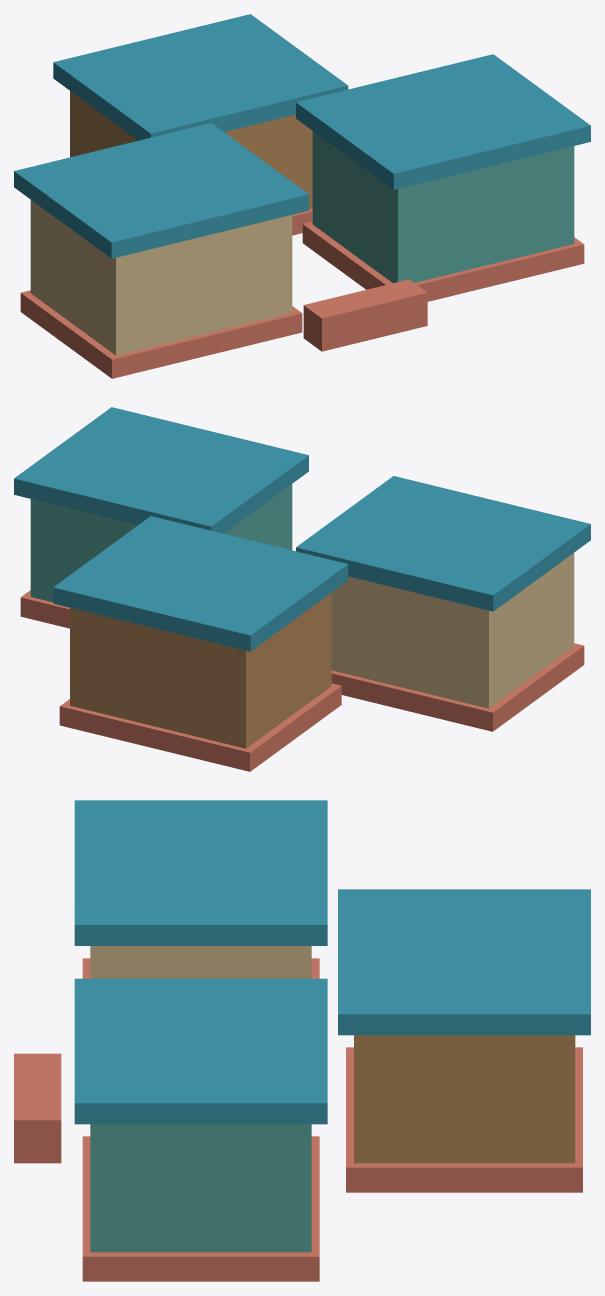
Rendered from village-housing.source.glb.
The picture shows the model from 3 angles, top to bottom: view 1: azimuth 30°, elevation 25°; view 2: azimuth 150°, elevation 25°; view 3: azimuth 270°, elevation 25°; orthographic projection. The views are drawn at different scales.
Parts seen in each view (by area): view 1: village-housing-home-0-mesh, village-housing-home-1-mesh, village-housing-roof-1-mesh, village-housing-roof-0-mesh, village-housing-roof-2-mesh, village-housing-base-0-mesh, village-housing-shared-trough-mesh, village-housing-home-2-mesh, village-housing-base-1-mesh; view 2: village-housing-home-2-mesh, village-housing-roof-2-mesh, village-housing-home-0-mesh, village-housing-roof-0-mesh, village-housing-roof-1-mesh, village-housing-home-1-mesh, village-housing-base-2-mesh, village-housing-base-0-mesh, village-housing-base-1-mesh; view 3: village-housing-roof-1-mesh, village-housing-roof-2-mesh, village-housing-roof-0-mesh, village-housing-home-1-mesh, village-housing-home-2-mesh, village-housing-base-1-mesh, village-housing-base-2-mesh, village-housing-home-0-mesh, village-housing-shared-trough-mesh.
Part boxes in pixels (x1=…): village-housing-home-0-mesh: x1=30, y1=200, x2=292, y2=355; village-housing-home-1-mesh: x1=312, y1=131, x2=574, y2=283; village-housing-roof-1-mesh: x1=296, y1=54, x2=590, y2=189; village-housing-roof-0-mesh: x1=14, y1=123, x2=308, y2=258; village-housing-roof-2-mesh: x1=53, y1=14, x2=348, y2=140; village-housing-base-0-mesh: x1=20, y1=290, x2=302, y2=378; village-housing-shared-trough-mesh: x1=303, y1=279, x2=427, y2=351; village-housing-home-2-mesh: x1=70, y1=91, x2=312, y2=209; village-housing-base-1-mesh: x1=302, y1=221, x2=584, y2=301; village-housing-home-2-mesh: x1=70, y1=593, x2=331, y2=748; village-housing-roof-2-mesh: x1=53, y1=516, x2=348, y2=651; village-housing-home-0-mesh: x1=331, y1=553, x2=574, y2=708; village-housing-roof-0-mesh: x1=296, y1=476, x2=590, y2=611; village-housing-roof-1-mesh: x1=14, y1=407, x2=308, y2=533; village-housing-home-1-mesh: x1=30, y1=484, x2=292, y2=602; village-housing-base-2-mesh: x1=59, y1=683, x2=341, y2=771; village-housing-base-0-mesh: x1=331, y1=643, x2=584, y2=731; village-housing-base-1-mesh: x1=20, y1=590, x2=69, y2=628; village-housing-roof-1-mesh: x1=74, y1=978, x2=327, y2=1124; village-housing-roof-2-mesh: x1=338, y1=889, x2=590, y2=1035; village-housing-roof-0-mesh: x1=74, y1=800, x2=327, y2=945; village-housing-home-1-mesh: x1=90, y1=1124, x2=311, y2=1252; village-housing-home-2-mesh: x1=354, y1=1035, x2=575, y2=1163; village-housing-base-1-mesh: x1=82, y1=1136, x2=319, y2=1281; village-housing-base-2-mesh: x1=346, y1=1047, x2=582, y2=1192; village-housing-home-0-mesh: x1=90, y1=946, x2=311, y2=978; village-housing-shared-trough-mesh: x1=14, y1=1053, x2=61, y2=1163.
Bounding box in the file's own units: 6.8 × 1.89 × 5.48.
